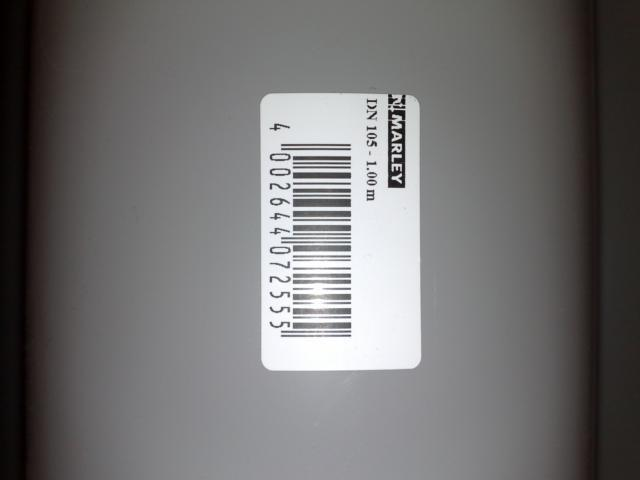Barcode: (260, 115, 360, 349)
